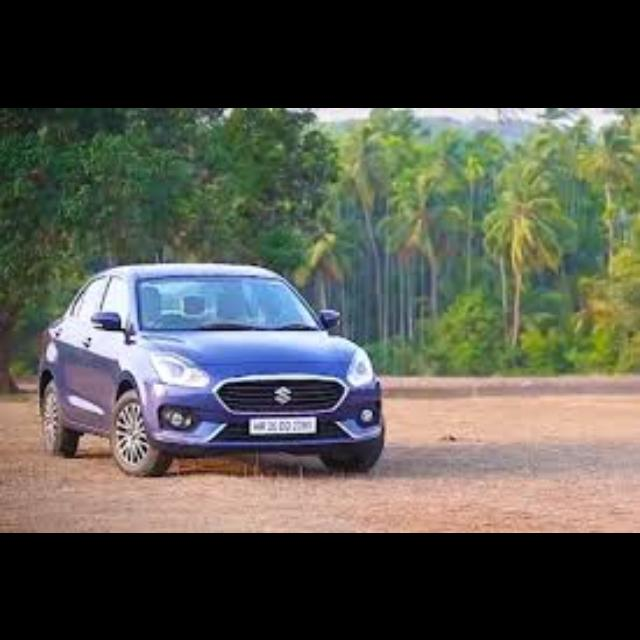number-plate: (247, 415, 317, 434), (247, 420, 256, 429)
vehicles: (33, 261, 389, 482)
